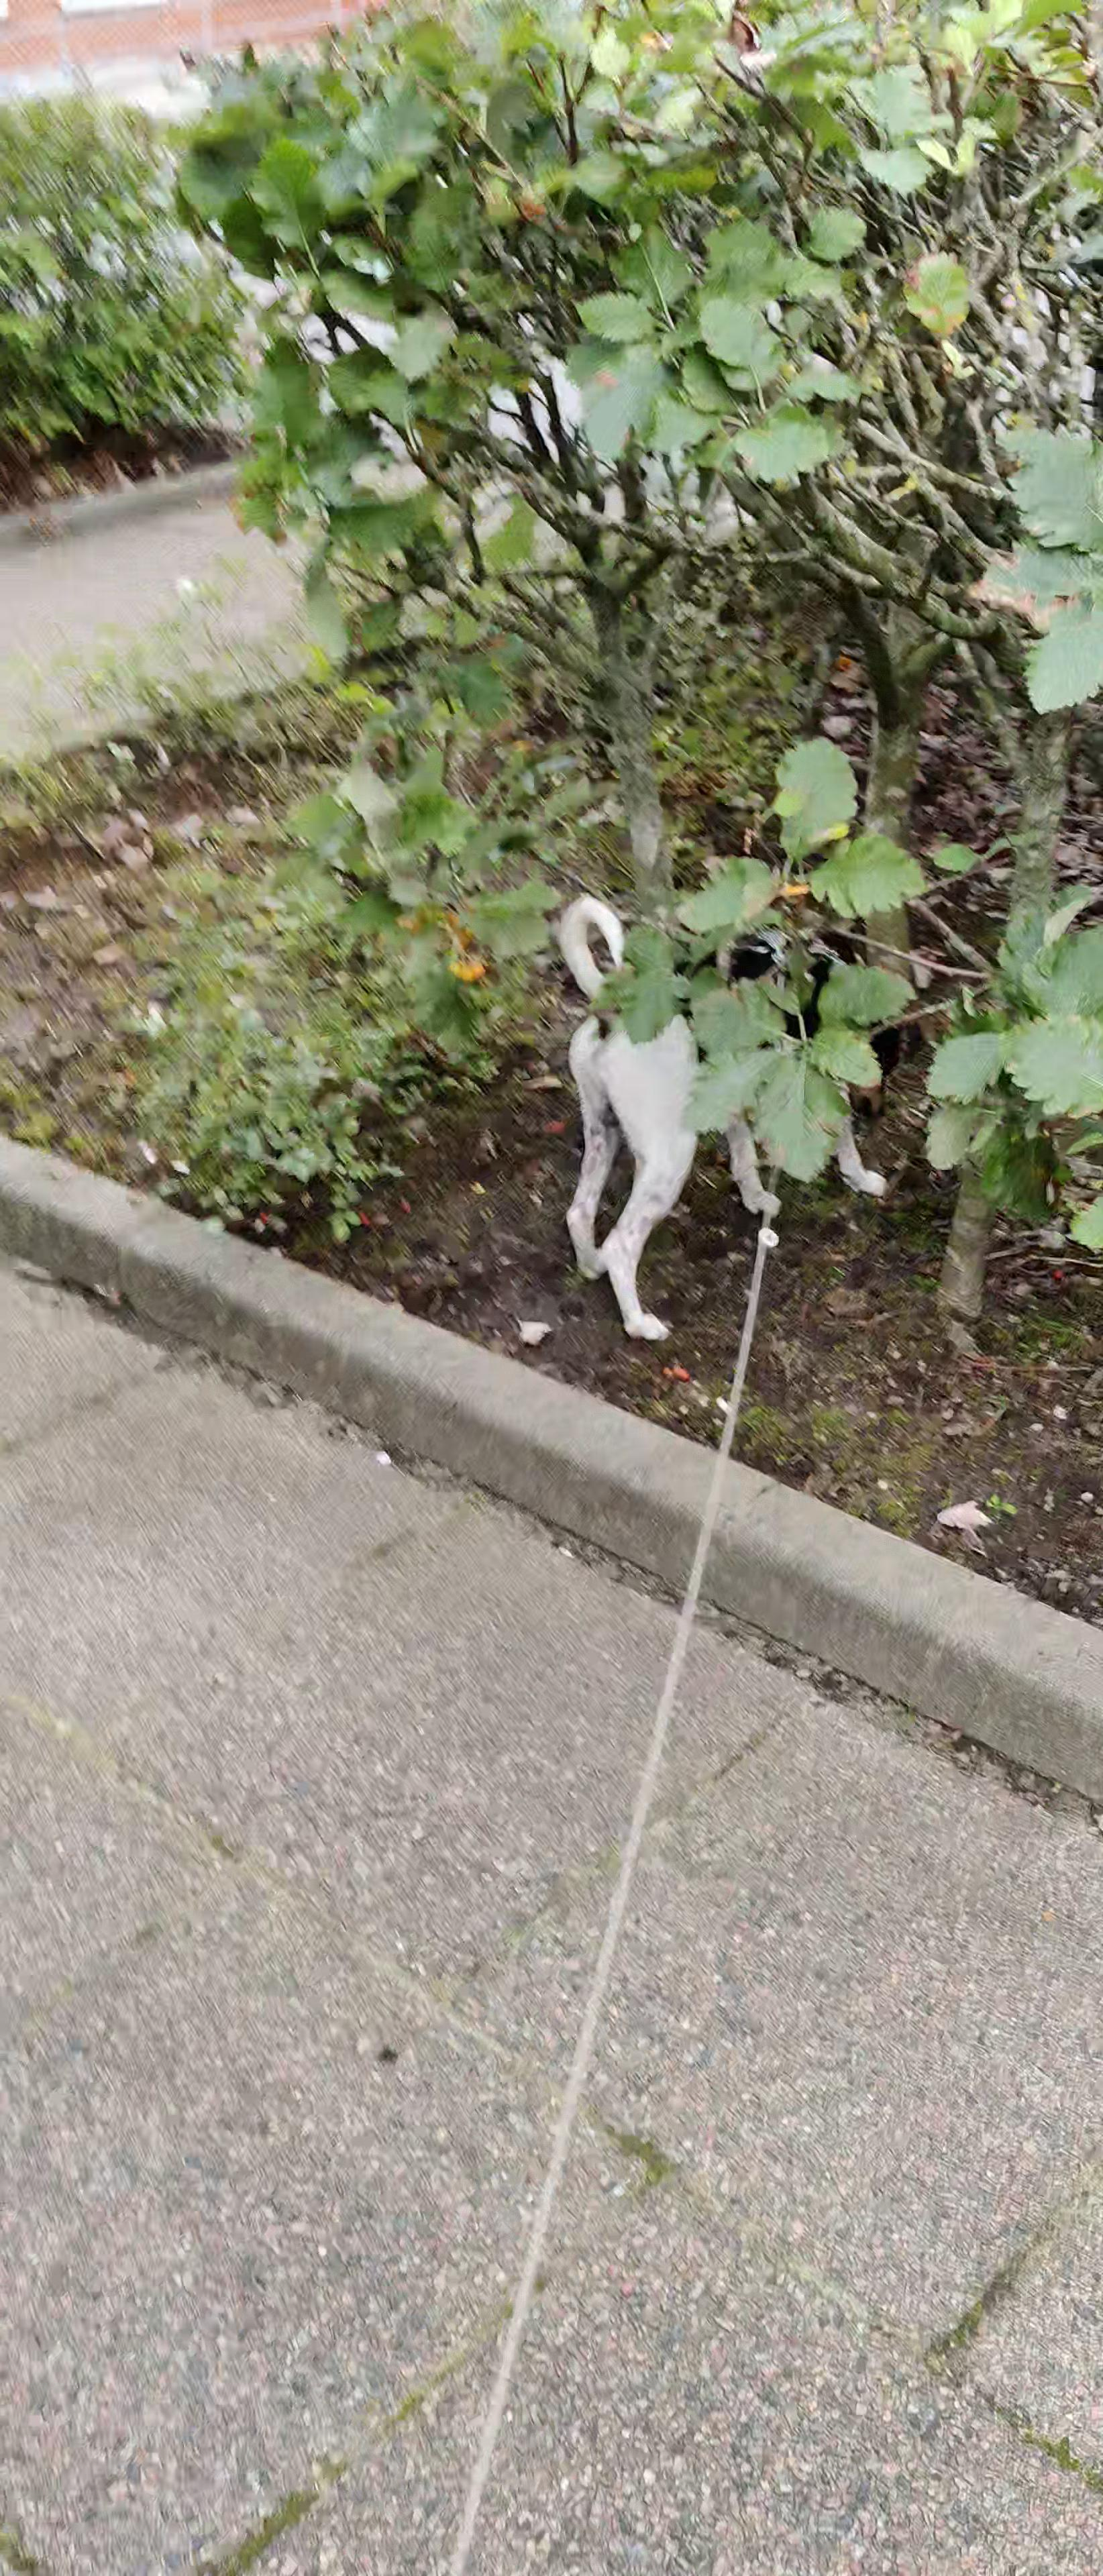Dog: (531, 866, 940, 1349)
